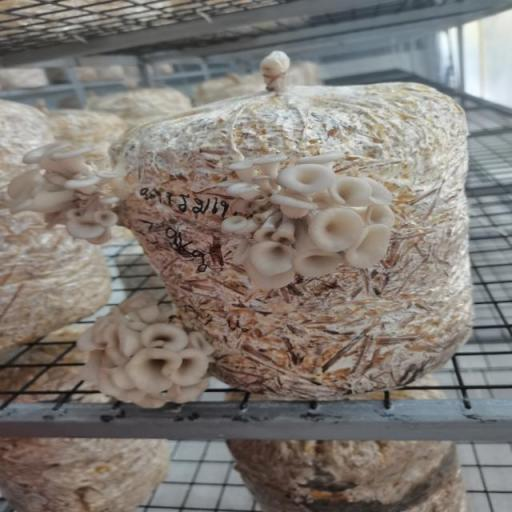White Oyster Mushroom: (220, 151, 396, 287), (68, 292, 235, 428), (3, 130, 152, 248)
